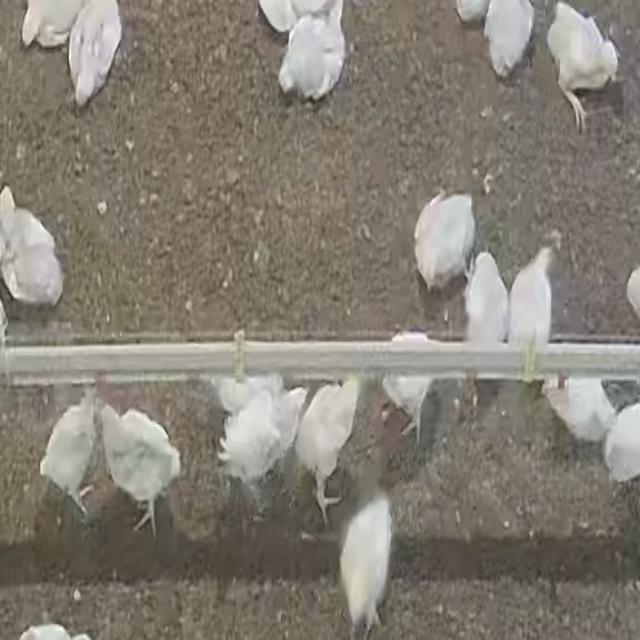chicken: (96, 398, 182, 538), (544, 1, 620, 132), (215, 384, 309, 485), (337, 482, 396, 640), (294, 376, 360, 516), (39, 391, 101, 523), (1, 188, 64, 312), (278, 3, 348, 104), (381, 328, 443, 440), (403, 194, 479, 285), (507, 243, 557, 379), (499, 245, 559, 343), (69, 1, 123, 108), (545, 376, 616, 446), (461, 248, 507, 342), (483, 0, 534, 79), (21, 0, 87, 50), (603, 399, 640, 485)
